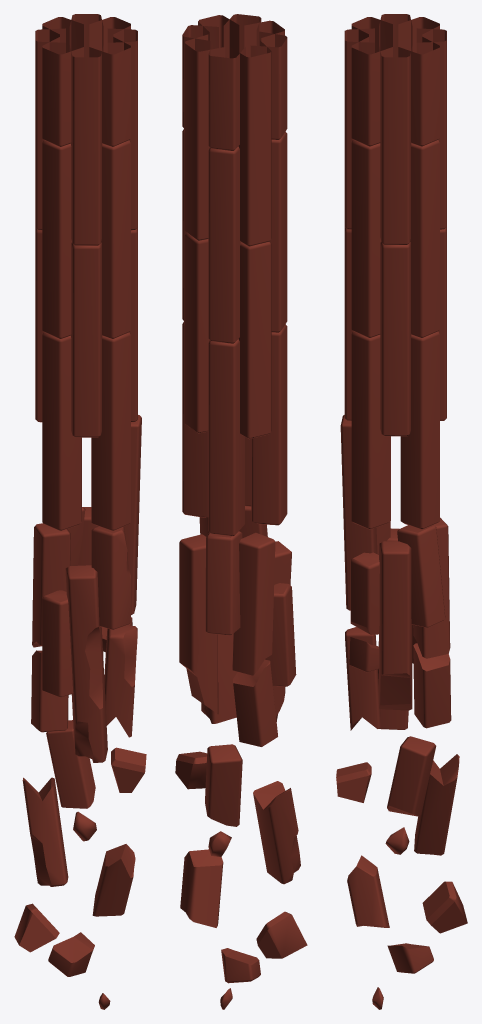
File: pillar_009.fbx
3 views of the same model, side by side, from view 1: azimuth 90°, elevation 25°; view 2: azimuth 210°, elevation 25°; view 3: azimuth 270°, elevation 25° (orthographic).
Visible parts, largest first — view 1: pillar_009; view 2: pillar_009; view 3: pillar_009.
Part boxes in pixels (bbox=[...]): pillar_009: bbox=[14, 14, 146, 1009]; pillar_009: bbox=[175, 14, 307, 1009]; pillar_009: bbox=[336, 14, 467, 1009].
Bounding box in the file's own units: 669 × 772 × 6284.
